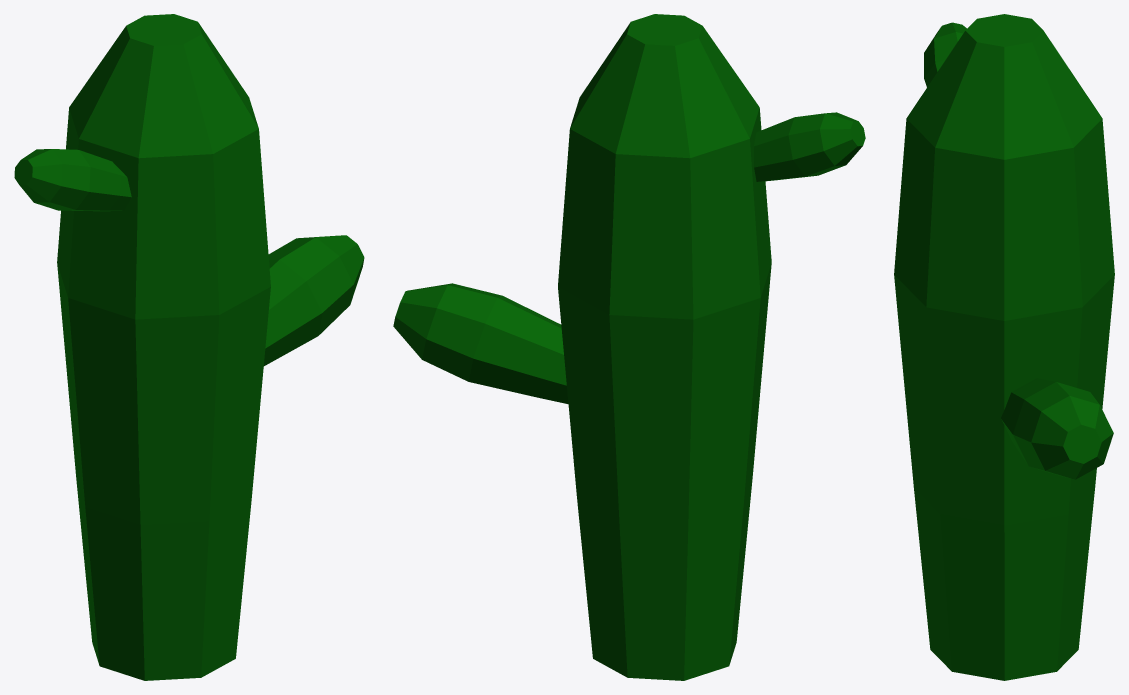
The model's file is cactus_1.FBX.
The picture shows the model from 3 angles, left to right: view 1: azimuth 30°, elevation 25°; view 2: azimuth 150°, elevation 25°; view 3: azimuth 270°, elevation 25°; orthographic projection.
Visible parts, largest first — view 1: Cylinder005; view 2: Cylinder005; view 3: Cylinder005.
Boxes of the visible parts, left/top/right/bottom form: Cylinder005: left=14, top=14, right=364, bottom=680; Cylinder005: left=393, top=14, right=865, bottom=680; Cylinder005: left=894, top=14, right=1114, bottom=680.
Bounding box in the file's own units: 11.1 × 16.33 × 5.28.
